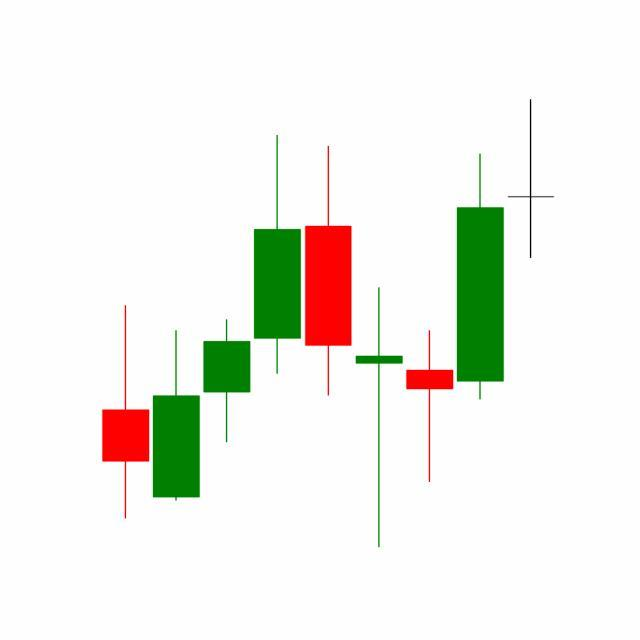Hikkake Pattern: (252, 131, 506, 549)
